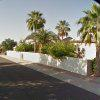Palm tree: (23, 1, 70, 50)
